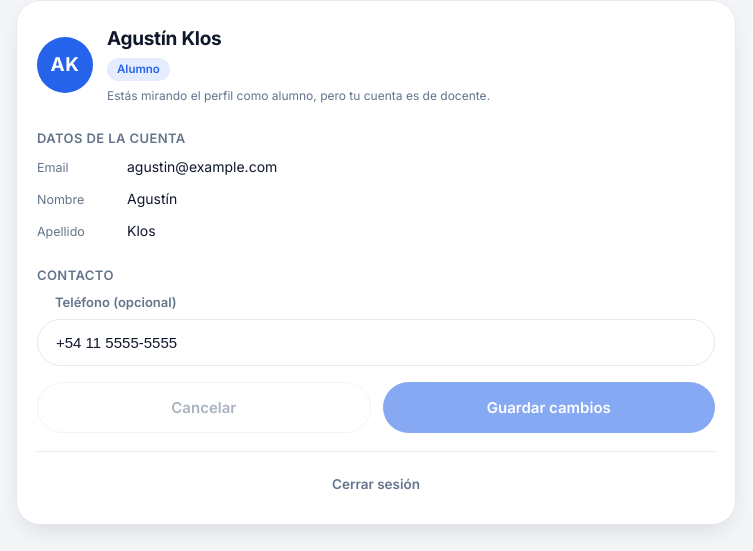
ProfilePage › guardar arranca apagado y se prende al cambiar algo
Expected: the button "Guardar cambios" is disabled, left=382, top=382, right=715, bottom=432
Type "9" into the field labelled "Teléfono (opcional)" at (376, 342), box left=37, top=318, right=715, bottom=366
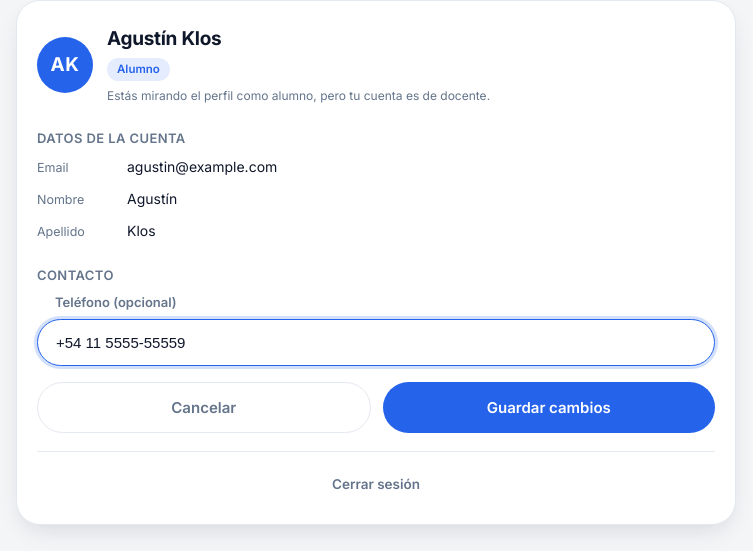
Result: the button "Guardar cambios" is enabled at left=382, top=382, right=715, bottom=432
